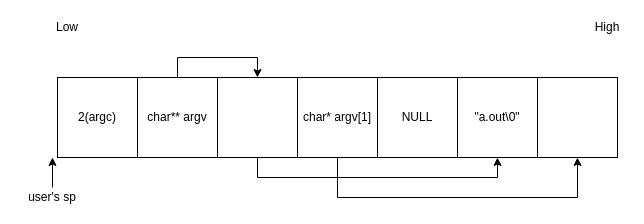
Some shapes in this 644 by 224 pixel diagram are drawn without their labels. The centre of each missing label's shape, as x and y in pixels:
"arg1\0": (577,117)
char* argv[0]: (257,117)
